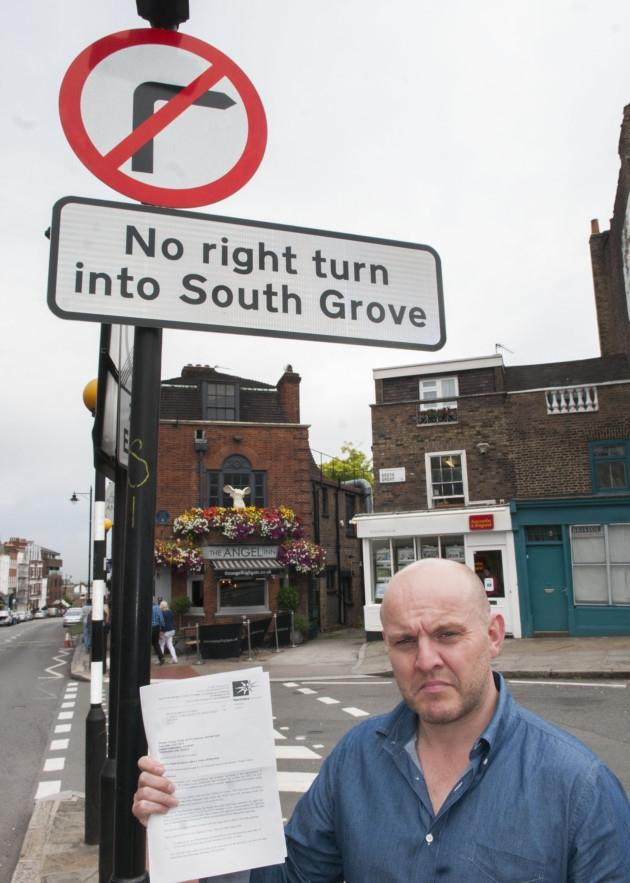no_right_turn: (58, 26, 267, 210)
